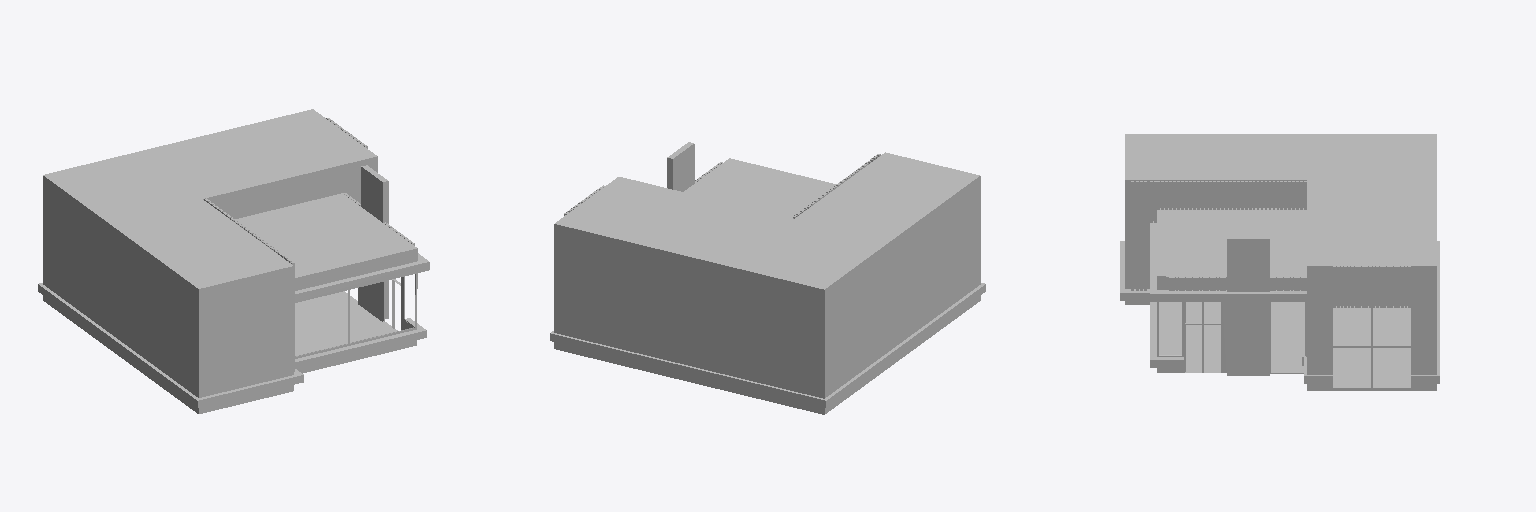
3 renders of one model, left to right at view 1: azimuth 30°, elevation 25°; view 2: azimuth 150°, elevation 25°; view 3: azimuth 270°, elevation 25°, orthographic.
Parts seen in each view (by area): view 1: blackbuild, pollbuild, whitebuild, redbuild, Cube, framebuild, stickbuild; view 2: blackbuild, whitebuild, pollbuild, redbuild; view 3: blackbuild, pollbuild, stickbuild, redbuild, whitebuild, woodbuild, framebuild.
Boxes of the visible parts, x1=… form: blackbuild: x1=43, y1=109, x2=417, y2=397; pollbuild: x1=43, y1=282, x2=416, y2=413; whitebuild: x1=38, y1=253, x2=429, y2=407; redbuild: x1=361, y1=165, x2=388, y2=318; Cube: x1=295, y1=277, x2=413, y2=356; framebuild: x1=295, y1=273, x2=417, y2=358; stickbuild: x1=204, y1=118, x2=414, y2=371; blackbuild: x1=554, y1=152, x2=980, y2=398; whitebuild: x1=550, y1=283, x2=985, y2=407; pollbuild: x1=554, y1=296, x2=980, y2=414; redbuild: x1=667, y1=142, x2=694, y2=191; blackbuild: x1=1125, y1=134, x2=1436, y2=374; pollbuild: x1=1125, y1=301, x2=1436, y2=390; stickbuild: x1=1131, y1=181, x2=1410, y2=307; redbuild: x1=1227, y1=236, x2=1269, y2=375; whitebuild: x1=1120, y1=221, x2=1439, y2=383; woodbuild: x1=1131, y1=180, x2=1407, y2=305; framebuild: x1=1157, y1=302, x2=1410, y2=390.
Bounding box in the file's own units: 737 × 350 × 737.